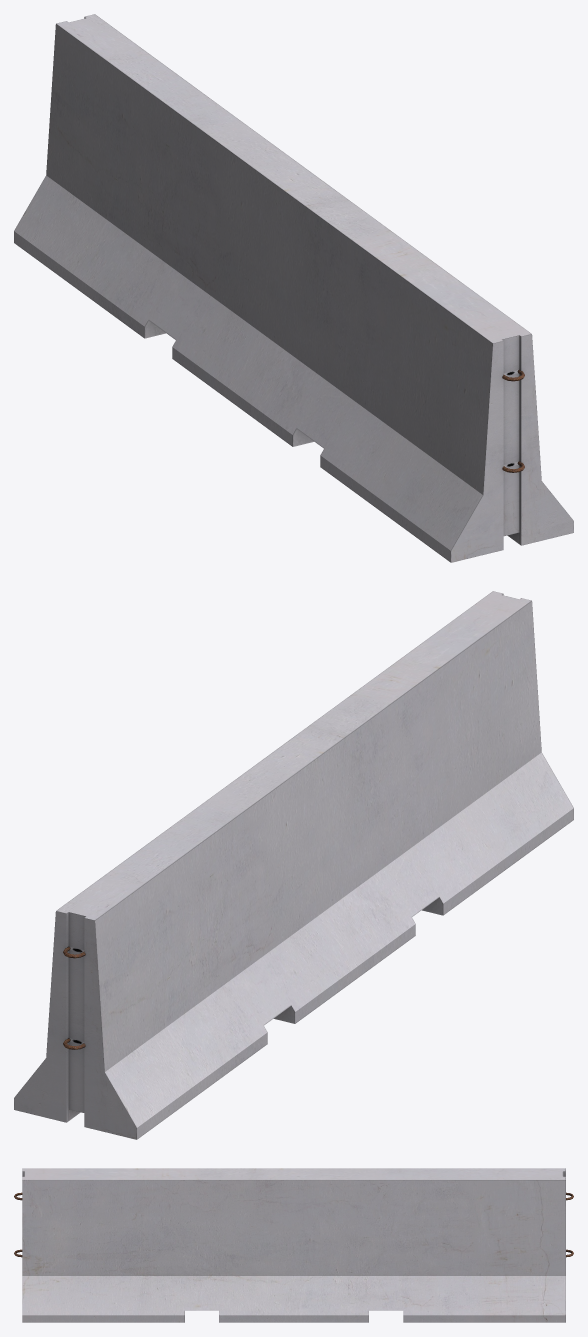
Rendered from Barrier.fbx.
The picture shows the model from 3 angles, top to bottom: view 1: azimuth 30°, elevation 25°; view 2: azimuth 150°, elevation 25°; view 3: azimuth 270°, elevation 25°; orthographic projection. The views are drawn at different scales.
Parts seen in each view (by area): view 1: Barrier; view 2: Barrier; view 3: Barrier.
Part boxes in pixels (x1,y1,x2,y2): Barrier: (14, 14, 573, 562); Barrier: (14, 591, 573, 1139); Barrier: (14, 1168, 573, 1322).
Bounding box in the file's own units: 0.9105 × 1.48 × 5.78.
